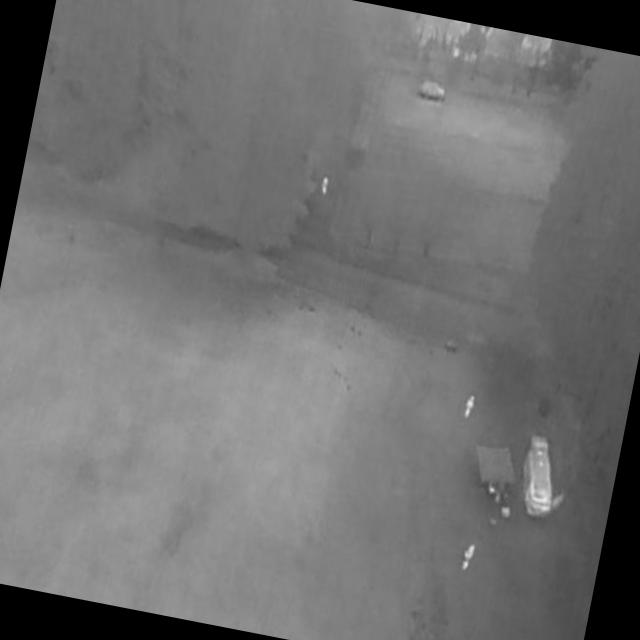person: (461, 544, 478, 574), (462, 395, 476, 421), (319, 176, 331, 200)
